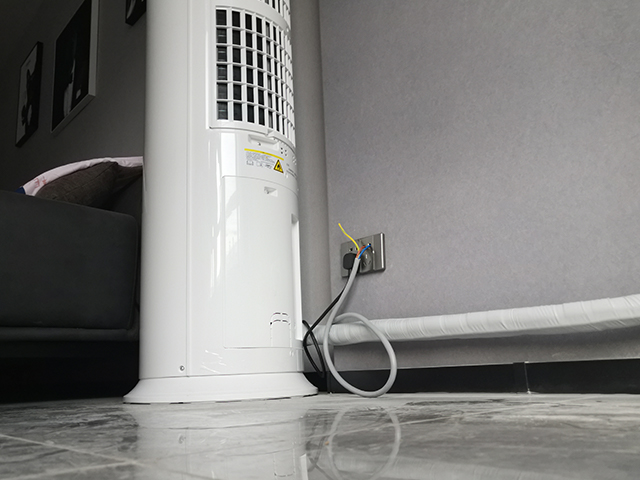sofa: (1, 153, 143, 404)
wire: (298, 218, 399, 399)
